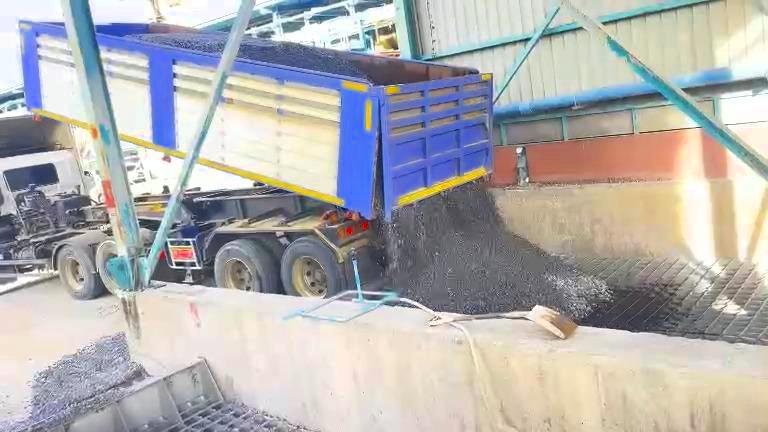gravel: (386, 183, 609, 318), (1, 334, 146, 430), (238, 36, 370, 80), (129, 33, 227, 54)
